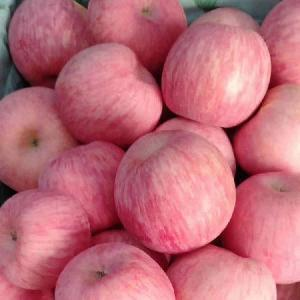apple: (116, 132, 237, 253), (161, 21, 272, 127), (55, 43, 164, 146), (2, 191, 92, 290), (224, 170, 300, 285), (1, 86, 80, 191), (39, 142, 125, 231), (84, 1, 189, 72), (7, 1, 95, 85), (55, 242, 176, 300), (165, 245, 277, 300), (234, 85, 300, 176), (259, 1, 300, 84)
